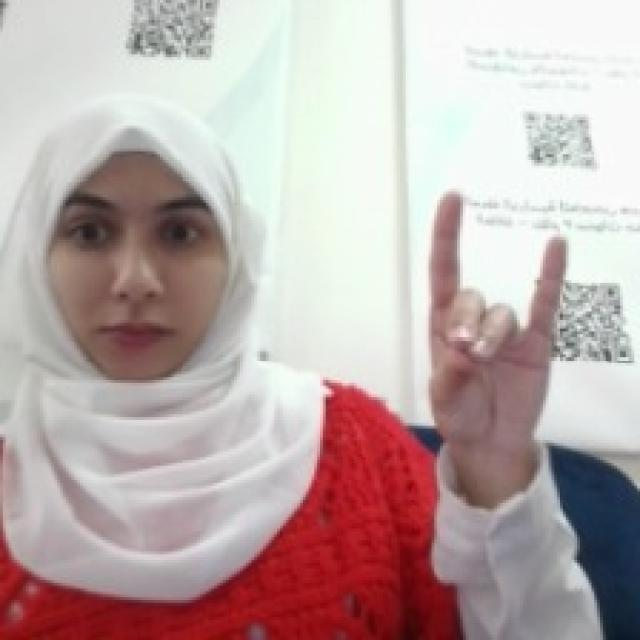Dog: (420, 183, 566, 454)
